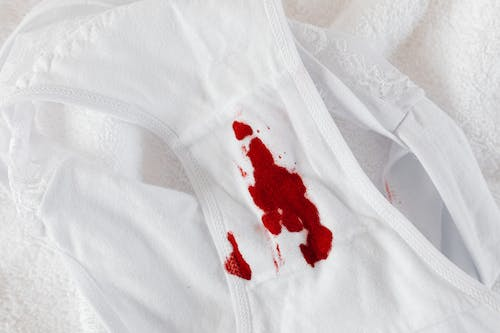blood: (222, 118, 335, 282)
